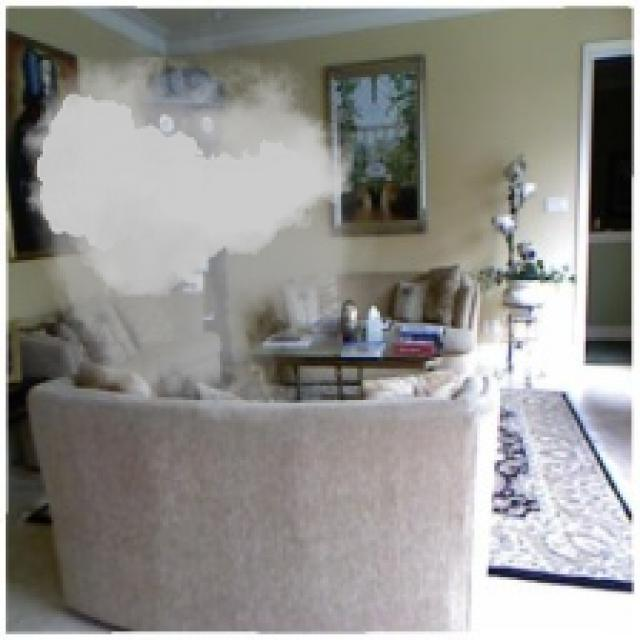Smoke: (12, 22, 377, 448)
